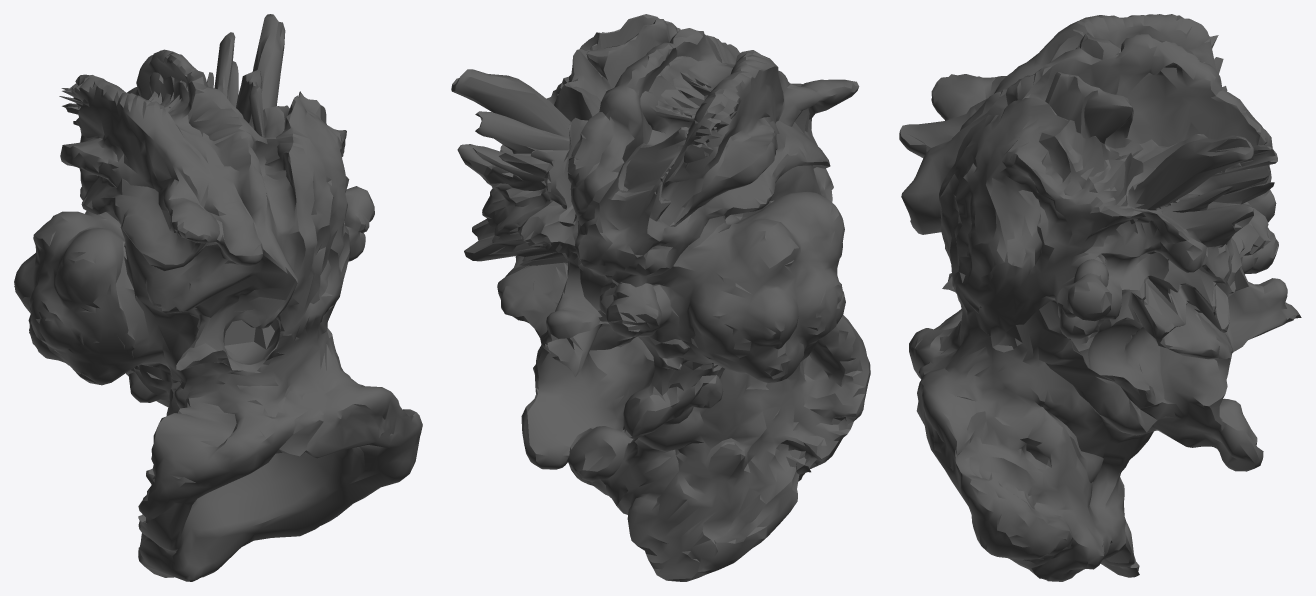
Rendered from 16_head_5.glb.
The picture shows the model from 3 angles, left to right: view 1: azimuth 30°, elevation 25°; view 2: azimuth 150°, elevation 25°; view 3: azimuth 270°, elevation 25°; orthographic projection. The views are drawn at different scales.
Visible parts, largest first — view 1: Sphere; view 2: Sphere; view 3: Sphere.
Part boxes in pixels (box(x1,y1,x2,y2)): Sphere: box(14, 14, 422, 581); Sphere: box(451, 14, 870, 581); Sphere: box(899, 14, 1301, 581).
Bounding box in the file's own units: 8.06 × 11.94 × 8.02.
Materials: 1 (1 with a texture image).
